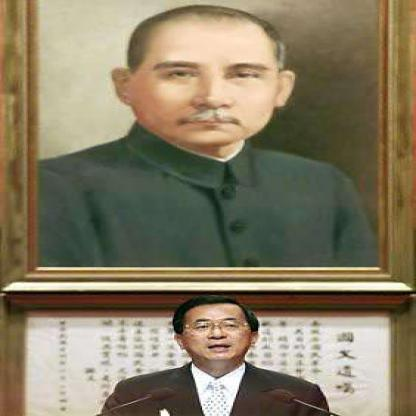face: (129, 6, 290, 148), (181, 300, 256, 364)
